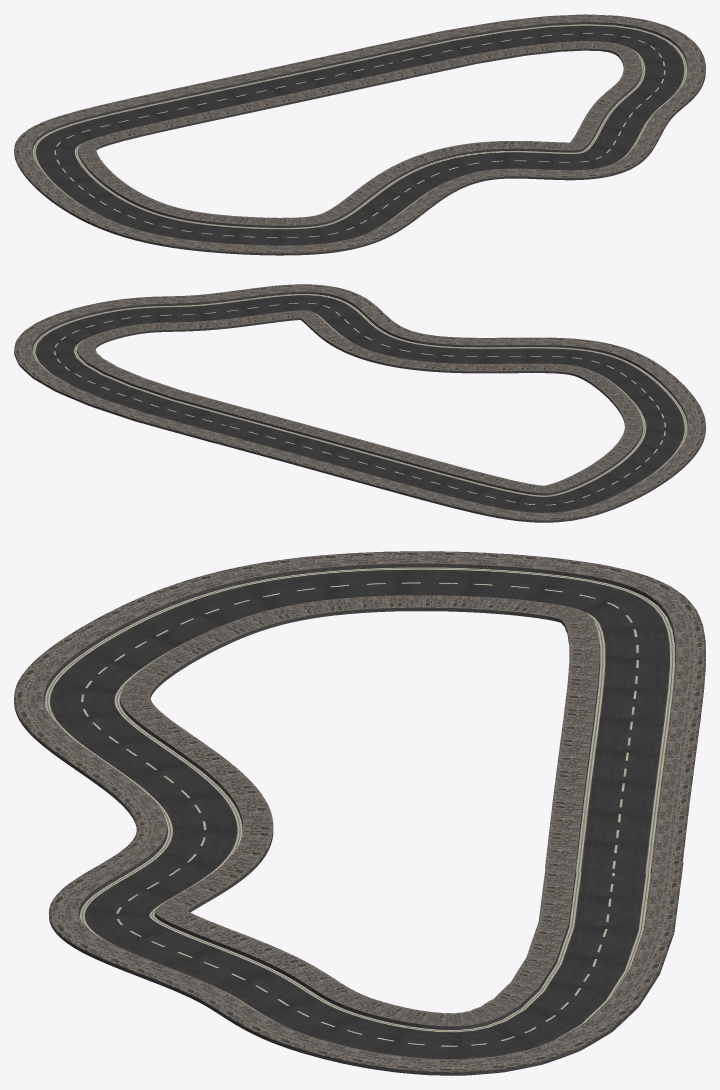
The model's file is ROAD1.dae.
The picture shows the model from 3 angles, top to bottom: view 1: azimuth 30°, elevation 25°; view 2: azimuth 150°, elevation 25°; view 3: azimuth 270°, elevation 25°; orthographic projection. The views are drawn at different scales.
Visible parts, largest first — view 1: Plane; view 2: Plane; view 3: Plane.
Boxes of the visible parts, x1=… form: Plane: x1=14, y1=14, x2=705, y2=255; Plane: x1=14, y1=284, x2=705, y2=522; Plane: x1=14, y1=551, x2=705, y2=1075.
Size of the model in its own units: 12979 by 55.89 by 7286.
